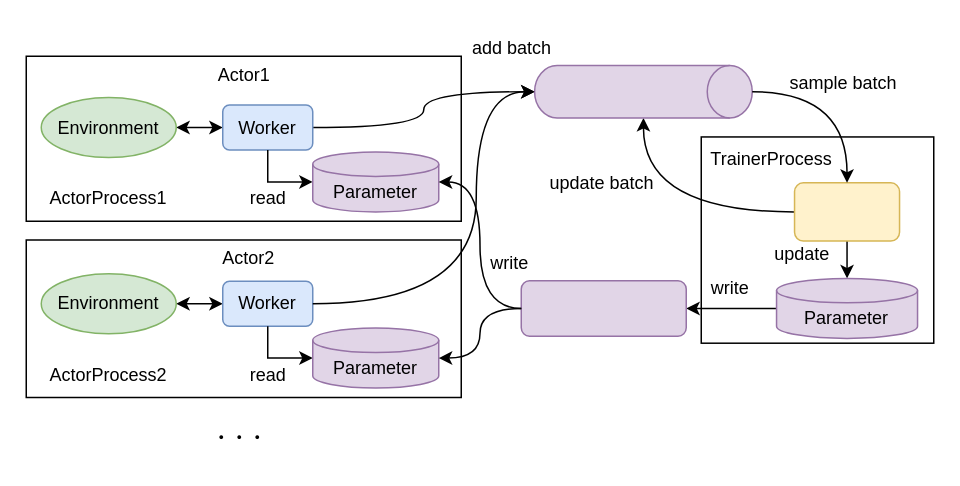
Image size: 960x486. Some labels were removed from this diagram. The shapes that lost their labels are listed below. From the top down, each one's box as (x1, y1, x2, y2) in pixels, then its label:
(533, 64, 752, 118): [Server] RemoteMemory
(793, 181, 900, 241): Trainer
(520, 279, 686, 336): [Server] RemoteBoard
